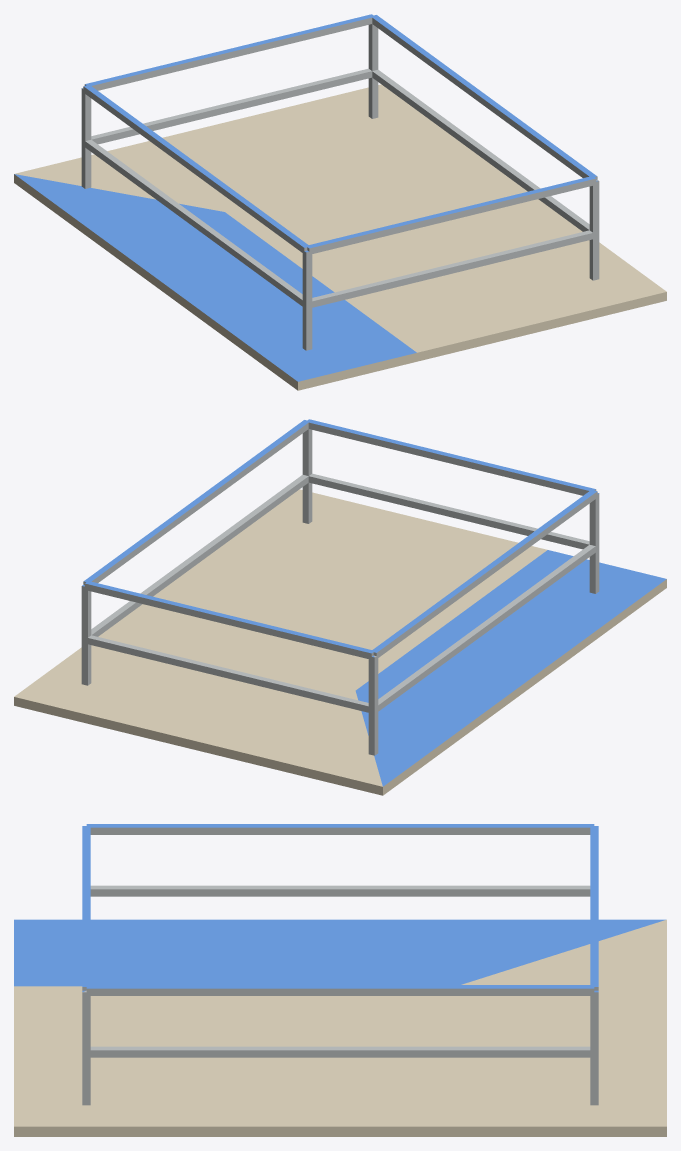
File: meridian_vehicle_factory_scaffolding.glb
The picture shows the model from 3 angles, top to bottom: view 1: azimuth 30°, elevation 25°; view 2: azimuth 150°, elevation 25°; view 3: azimuth 270°, elevation 25°; orthographic projection. The views are drawn at different scales.
Parts seen in each view (by area): view 1: hull; view 2: hull; view 3: hull.
Part boxes in pixels (x1,y1,x2,y2): hull: [14, 14, 666, 390]; hull: [14, 419, 666, 795]; hull: [14, 824, 666, 1136].
Bounding box in the file's own units: 10.8 × 3.09 × 14.4.
